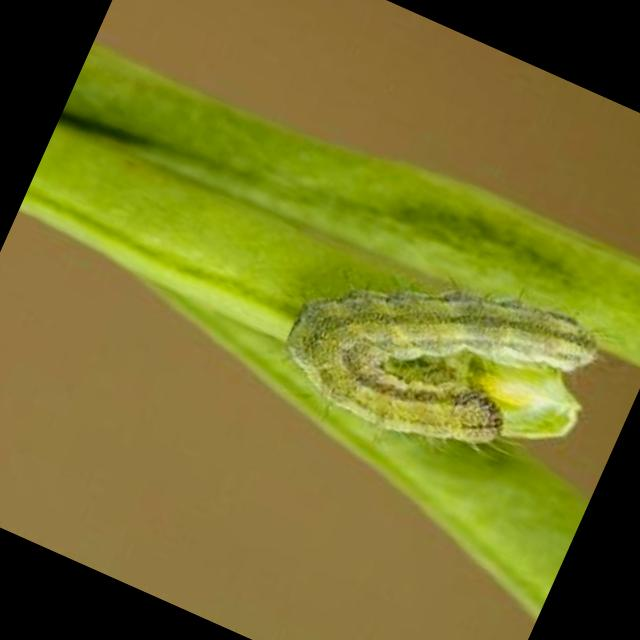Cotton bollworm: (253, 188, 640, 525)
